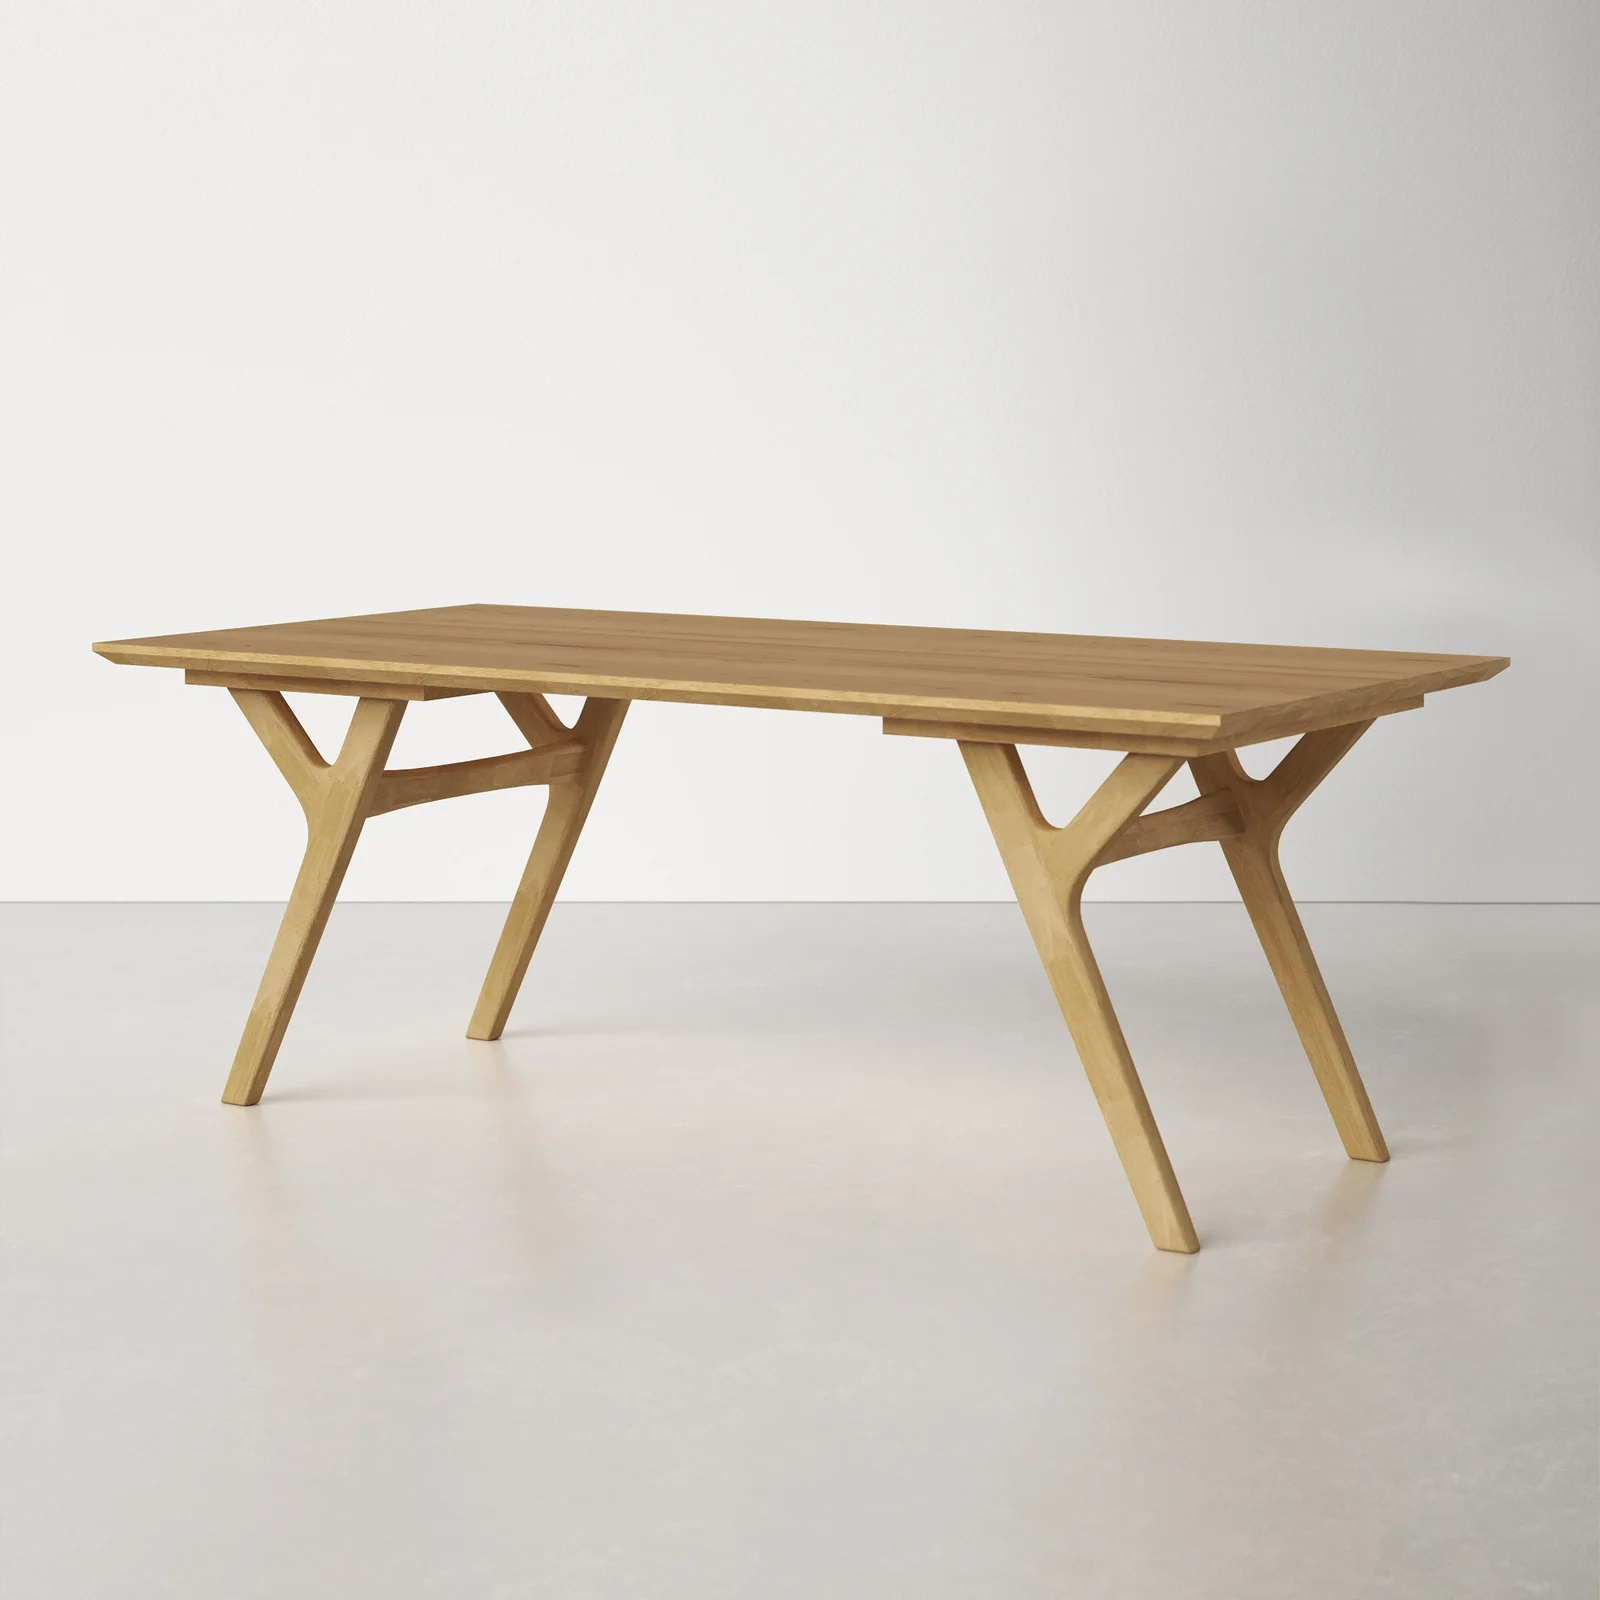obstacle: (94, 605, 1506, 1251)
